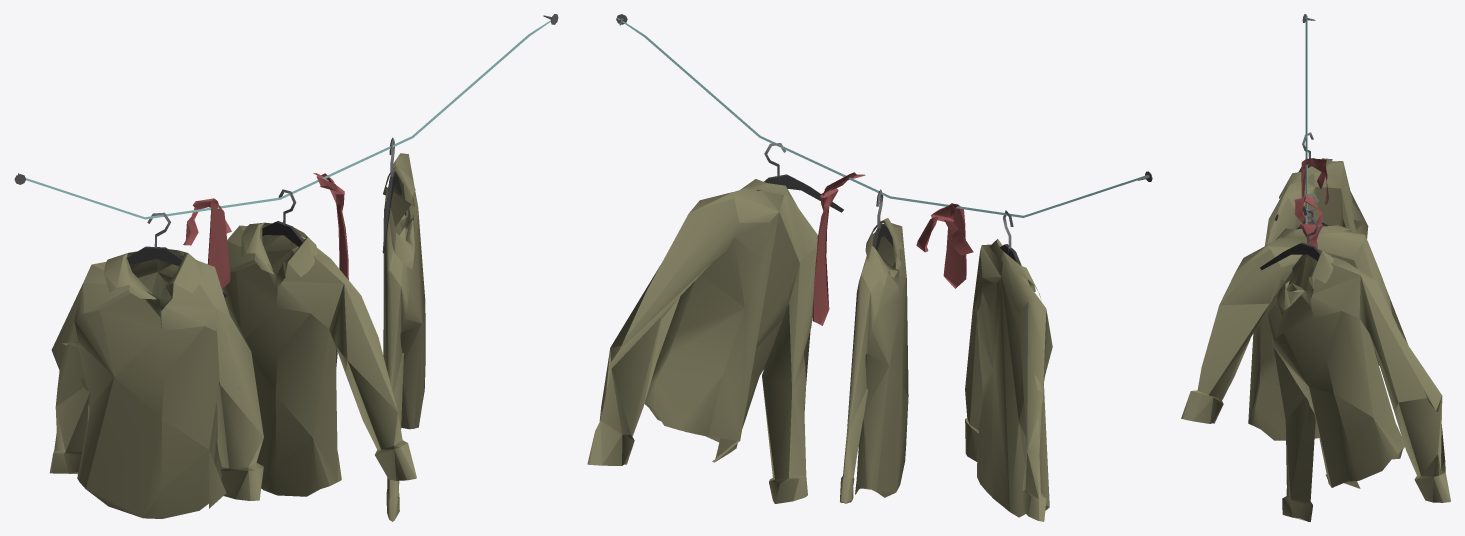
File: clothesline.fbx
3 views of the same model, side by side, from view 1: azimuth 30°, elevation 25°; view 2: azimuth 150°, elevation 25°; view 3: azimuth 270°, elevation 25° (orthographic). The views are drawn at different scales.
Visible parts, largest first — view 1: Shirt_lo (×3), Tie_lo (×2), clothesline, coat_hanger1 (×2); view 2: Shirt_lo (×3), Tie_lo (×2), clothesline, coat_hanger1; view 3: Shirt_lo (×3), Tie_lo (×2), coat_hanger1, clothesline.
Part boxes in pixels (bbox=[...]): Shirt_lo (×3): bbox=[49, 153, 425, 521]; Tie_lo (×2): bbox=[183, 173, 348, 288]; clothesline: bbox=[26, 20, 550, 219]; coat_hanger1 (×2): bbox=[127, 189, 303, 297]; Shirt_lo (×3): bbox=[587, 179, 1052, 521]; Tie_lo (×2): bbox=[812, 172, 973, 325]; clothesline: bbox=[617, 17, 1149, 217]; coat_hanger1: bbox=[757, 143, 843, 212]; Shirt_lo (×3): bbox=[1181, 158, 1450, 521]; Tie_lo (×2): bbox=[1294, 158, 1328, 248]; coat_hanger1: bbox=[1260, 216, 1320, 270]; clothesline: bbox=[1305, 15, 1307, 224].
Size of the model in its own units: 192 by 154 by 99.15.
